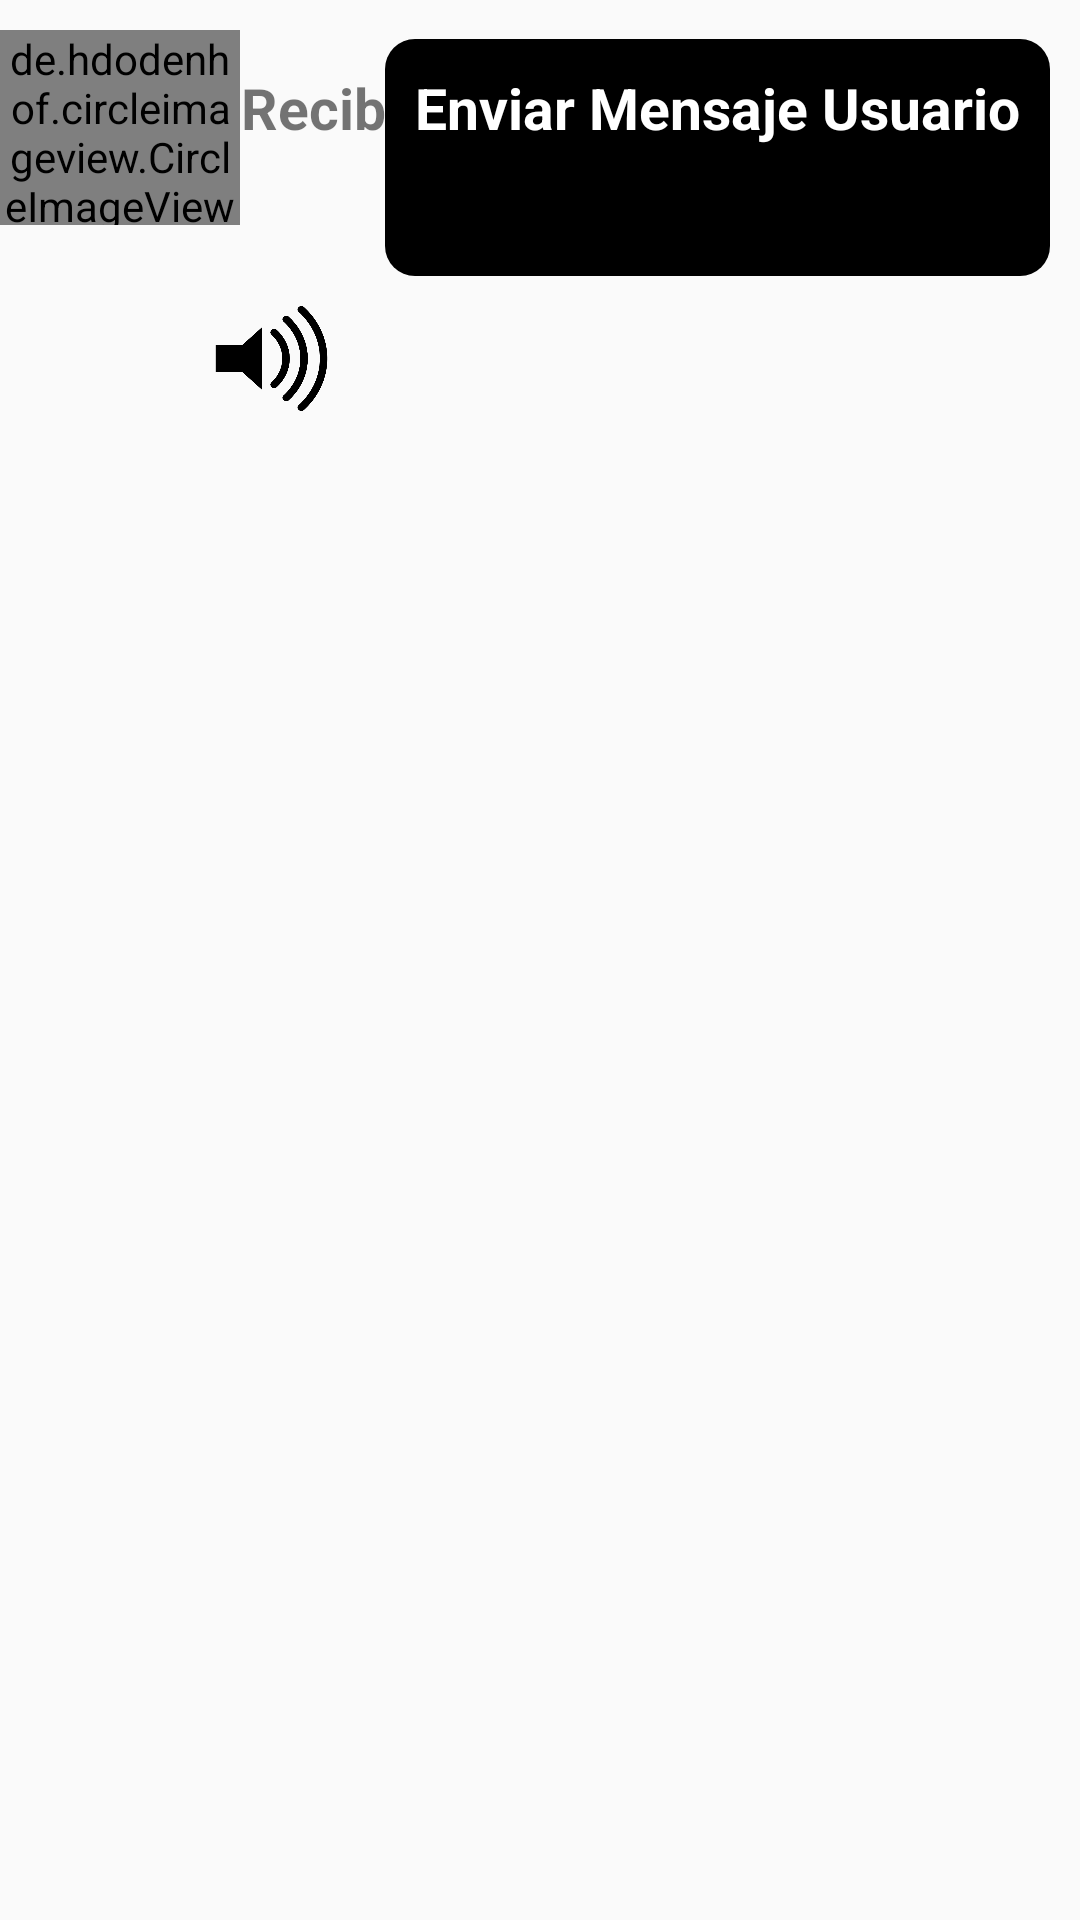

Screen size 1080×1920. Icon name, then its box in pixels as bbox=(x1, y1, x2, y2):
sonido: bbox=(215, 306, 328, 411)
